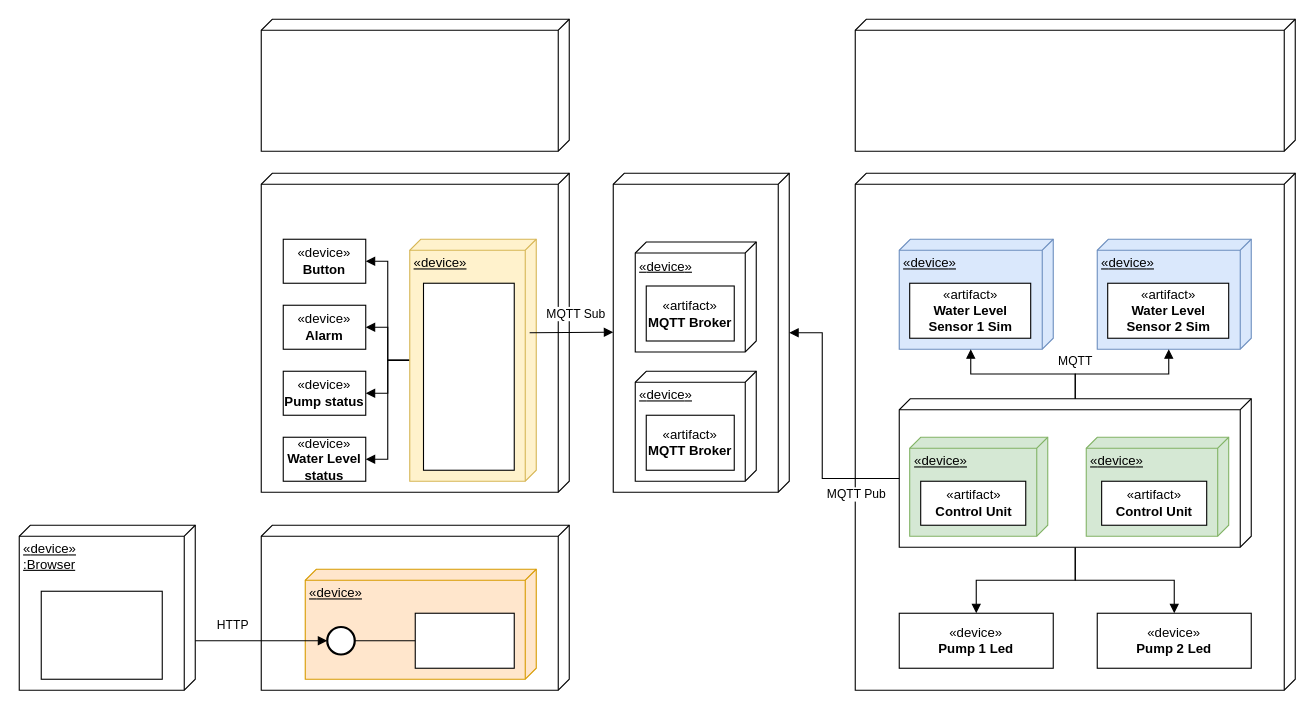
Image size: 1315x710. Some labels were removed from this diagram. The box of each missing label's shape, as (x1, y1, x2, y2) in pixels:
Control Unit Cluster: (898, 398, 1251, 547)
MQTT Broker Cluster: (612, 172, 789, 492)
Remote Status Station 1: (260, 172, 569, 492)
Remote Status Station 2: (260, 18, 569, 151)
WPS 1: (854, 172, 1295, 690)
WPS 2: (854, 18, 1295, 151)
WPS Status Website: (260, 524, 569, 690)
«artifact» Firefox: (40, 590, 162, 679)
«artifact» HTTP Server: (414, 612, 514, 668)
«artifact» Remote Status Station: (422, 282, 514, 470)
